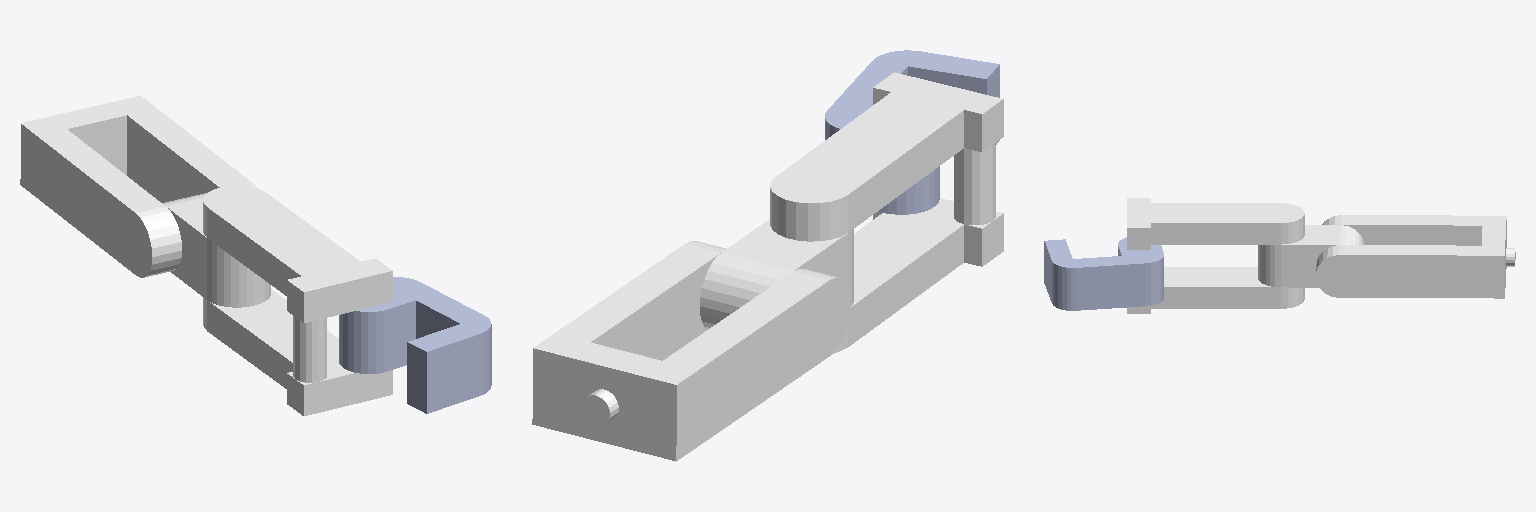
The robot description file, URDF, robot "claw  as base":
<?xml version="1.0" encoding="utf-8"?>
<!-- This URDF was automatically created by SolidWorks to URDF Exporter! Originally created by Stephen Brawner (brawner@gmail.com) 
     Commit Version: 1.5.1-0-g916b5db  Build Version: 1.5.7152.31018
     For more information, please see http://wiki.ros.org/sw_urdf_exporter -->
<robot
  name="claw  as base">
  <link
    name="P_left_Link">
    <inertial>
      <origin
        xyz="0.0490265983564535 -0.0687165524722106 7.0082828429463E-16"
        rpy="0 0 0" />
      <mass
        value="2.8207521601036" />
      <inertia
        ixx="0.0192159768785392"
        ixy="0.00134300200064639"
        ixz="-3.36441486649408E-17"
        iyy="0.00699321135143648"
        iyz="1.97141095121926E-17"
        izz="0.0215079346298031" />
    </inertial>
    <visual>
      <origin
        xyz="0 0 0"
        rpy="0 0 0" />
      <geometry>
        <mesh
          filename="../meshes/P_left_Link.STL" />
      </geometry>
      <material
        name="">
        <color
          rgba="0.792156862745098 0.819607843137255 0.933333333333333 1" />
      </material>
    </visual>
    <collision>
      <origin
        xyz="0 0 0"
        rpy="0 0 0" />
      <geometry>
        <mesh
          filename="../meshes/P_left_Link.STL" />
      </geometry>
    </collision>
  </link>
  <link
    name="P_2_Link">
    <inertial>
      <origin
        xyz="-0.050000000000001 0.140999217671032 -3.57353036051222E-16"
        rpy="0 0 0" />
      <mass
        value="6.27444678594554" />
      <inertia
        ixx="0.115575132776854"
        ixy="1.15272374978659E-15"
        ixz="3.68167952721765E-16"
        iyy="0.0395015954287934"
        iyz="-3.79978980138279E-18"
        izz="0.0901215297519563" />
    </inertial>
    <visual>
      <origin
        xyz="0 0 0"
        rpy="0 0 0" />
      <geometry>
        <mesh
          filename="../meshes/P_2_Link.STL" />
      </geometry>
      <material
        name="">
        <color
          rgba="1 1 1 0.5" />
      </material>
    </visual>
    <collision>
      <origin
        xyz="0 0 0"
        rpy="0 0 0" />
      <geometry>
        <mesh
          filename="../meshes/P_2_Link.STL" />
      </geometry>
    </collision>
  </link>
  <joint
    name="P_2_to_left_Link"
    type="revolute">
    <origin
      xyz="0 0 0"
      rpy="0 0 0" />
    <parent
      link="P_left_Link" />
    <child
      link="P_2_Link" />
    <axis
      xyz="0 0 -1" />
    <limit
      lower="-3.14"
      upper="3.14"
      effort="200"
      velocity="20" />
  </joint>
  <link
    name="P_right_Link">
    <inertial>
      <origin
        xyz="-0.0662799837749544 0.0522736614449653 1.04777297948999E-15"
        rpy="0 0 0" />
      <mass
        value="2.8207521601036" />
      <inertia
        ixx="0.0175401394644868"
        ixy="0.00441345568788353"
        ixz="6.45710156350898E-17"
        iyy="0.00866904876548891"
        iyz="-8.60483830456699E-17"
        izz="0.021507934629803" />
    </inertial>
    <visual>
      <origin
        xyz="0 0 0"
        rpy="0 0 0" />
      <geometry>
        <mesh
          filename="../meshes/P_right_Link.STL" />
      </geometry>
      <material
        name="">
        <color
          rgba="0.792156862745098 0.819607843137255 0.933333333333333 1" />
      </material>
    </visual>
    <collision>
      <origin
        xyz="0 0 0"
        rpy="0 0 0" />
      <geometry>
        <mesh
          filename="../meshes/P_right_Link.STL" />
      </geometry>
    </collision>
  </link>
  <joint
    name="P_2_to_right_Link"
    type="revolute">
    <origin
      xyz="-0.1 0 0"
      rpy="3.1416 0 0" />
    <parent
      link="P_2_Link" />
    <child
      link="P_right_Link" />
    <axis
      xyz="0 0 -1" />
    <limit
      lower="-3.14"
      upper="3.14"
      effort="200"
      velocity="20" />
  </joint>
  <link
    name="P_1_Link">
    <inertial>
      <origin
        xyz="-0.0614114611832884 -0.0116138897590241 3.78169717762944E-16"
        rpy="0 0 0" />
      <mass
        value="2.29977871437821" />
      <inertia
        ixx="0.00418180093559034"
        ixy="-0.00108750647115445"
        ixz="1.38972695656013E-17"
        iyy="0.00972660923255025"
        iyz="2.69695290405769E-18"
        izz="0.00993227410397425" />
    </inertial>
    <visual>
      <origin
        xyz="0 0 0"
        rpy="0 0 0" />
      <geometry>
        <mesh
          filename="../meshes/P_1_Link.STL" />
      </geometry>
      <material
        name="">
        <color
          rgba="1 1 1 0.5" />
      </material>
    </visual>
    <collision>
      <origin
        xyz="0 0 0"
        rpy="0 0 0" />
      <geometry>
        <mesh
          filename="../meshes/P_1_Link.STL" />
      </geometry>
    </collision>
  </link>
  <joint
    name="P_1_to_2_Link"
    type="revolute">
    <origin
      xyz="-0.05 0.3 0"
      rpy="-3.1416 0 -1.4056" />
    <parent
      link="P_2_Link" />
    <child
      link="P_1_Link" />
    <axis
      xyz="0 0 -1" />
    <limit
      lower="-3.14"
      upper="3.14"
      effort="200"
      velocity="20" />
  </joint>
  <link
    name="P_base_Link">
    <inertial>
      <origin
        xyz="0.168115293342971 -1.04083408558608E-17 -5.55111512312578E-17"
        rpy="0 0 0" />
      <mass
        value="6.45985390928753" />
      <inertia
        ixx="0.0376630506242884"
        ixy="8.16539761153146E-19"
        ixz="-2.60208521396521E-18"
        iyy="0.083235936266918"
        iyz="6.91178884959509E-19"
        izz="0.0556863824606013" />
    </inertial>
    <visual>
      <origin
        xyz="0 0 0"
        rpy="0 0 0" />
      <geometry>
        <mesh
          filename="../meshes/P_base_Link.STL" />
      </geometry>
      <material
        name="">
        <color
          rgba="1 1 1 0.5" />
      </material>
    </visual>
    <collision>
      <origin
        xyz="0 0 0"
        rpy="0 0 0" />
      <geometry>
        <mesh
          filename="../meshes/P_base_Link.STL" />
      </geometry>
    </collision>
  </link>
  <joint
    name="P_base_to_1_Link"
    type="revolute">
    <origin
      xyz="-0.12282 -0.023228 0"
      rpy="1.5708 0.0063246 -2.9547" />
    <parent
      link="P_1_Link" />
    <child
      link="P_base_Link" />
    <axis
      xyz="0 0 1" />
    <limit
      lower="-3.14"
      upper="3.14"
      effort="200"
      velocity="20" />
  </joint>
</robot>

--- What the picture shows (computed from the rendered views, not written in the file) ---
3 views of the same robot in one strip: view 1: azimuth 30°, elevation 25°; view 2: azimuth 150°, elevation 25°; view 3: azimuth 270°, elevation 25° (orthographic).
Model claw  as base with 5 links and 4 joints (4 revolute), rooted at P_left_Link, posed every joint at zero.
Visible links, largest first — view 1: P_2_Link, P_base_Link, P_left_Link, P_1_Link; view 2: P_base_Link, P_2_Link, P_1_Link, P_left_Link; view 3: P_base_Link, P_2_Link, P_left_Link, P_1_Link.
Boxes of the visible links, box(x1,y1,x2,y2) form: P_2_Link: box(203, 186, 392, 415); P_base_Link: box(20, 95, 258, 277); P_left_Link: box(339, 277, 491, 413); P_1_Link: box(162, 193, 270, 307); P_base_Link: box(532, 241, 850, 461); P_2_Link: box(770, 72, 1003, 353); P_1_Link: box(700, 219, 853, 329); P_left_Link: box(825, 50, 999, 214); P_base_Link: box(1316, 215, 1515, 298); P_2_Link: box(1127, 198, 1304, 313); P_left_Link: box(1044, 237, 1163, 310); P_1_Link: box(1258, 225, 1363, 287).
Bounding box of the posed robot: 0.2659 × 0.9957 × 0.2 m (x, y, z).
Meshes: 5 distinct files referenced, 4 mesh visuals loaded (4 binary STL); not drawn: 1 (reference not matched to a file when rendering).
